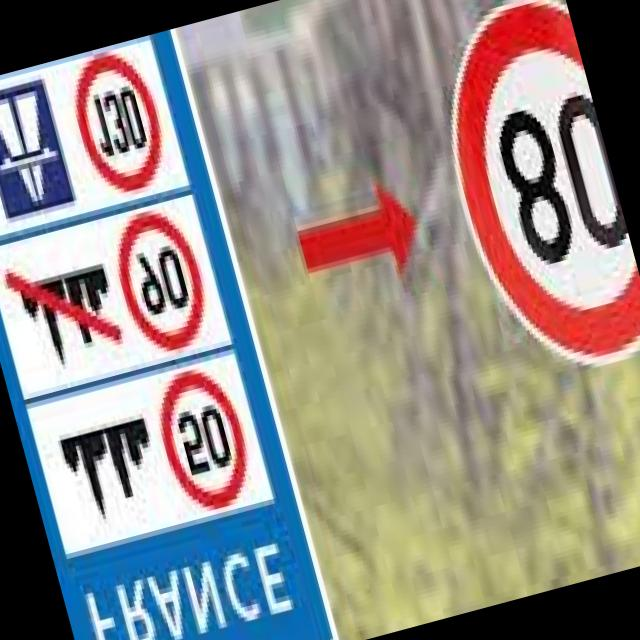speed_limit_50: (140, 352, 266, 522)
speed_limit_80: (409, 0, 640, 405)
